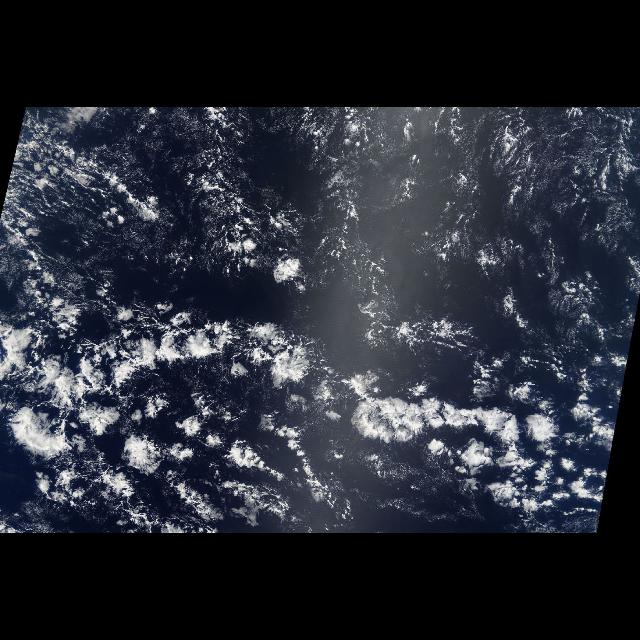Fish: (45, 306, 600, 534)
Flower: (8, 279, 604, 527)
Sugar: (91, 110, 639, 320)
